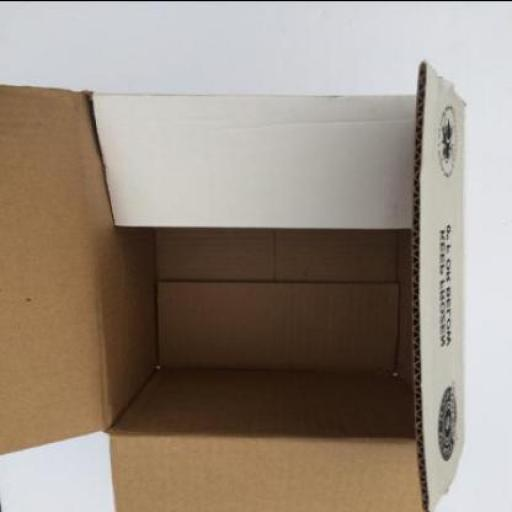cardboard: (2, 62, 466, 510)
